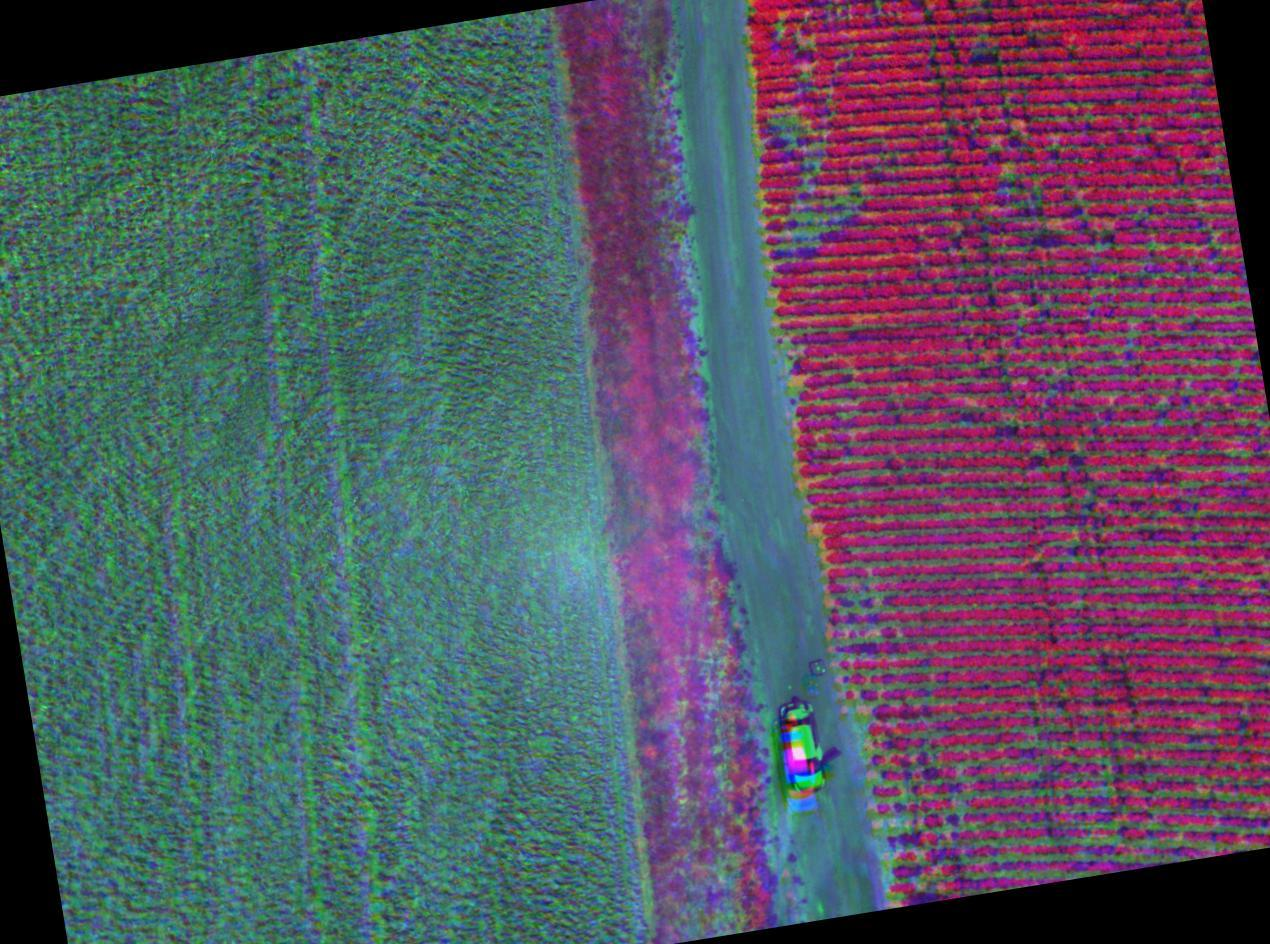dc: (1008, 725, 1132, 866), (768, 128, 869, 263), (858, 713, 957, 847), (831, 580, 911, 698), (1168, 765, 1270, 855), (761, 10, 849, 109)
